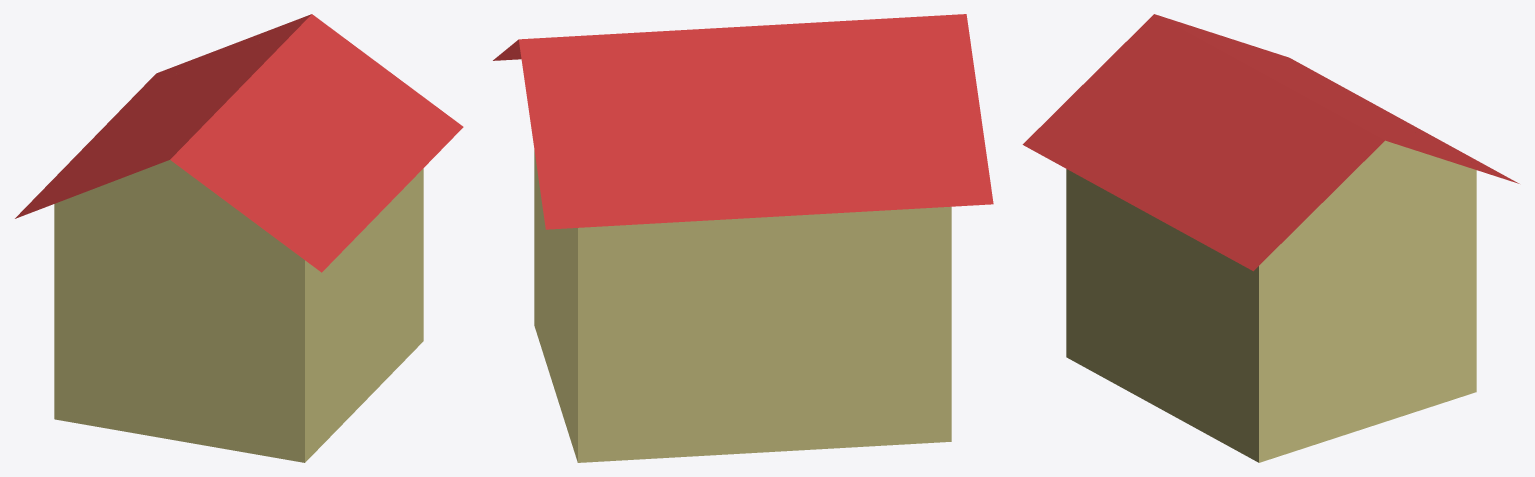
3 views of the same model, side by side, from view 1: azimuth 30°, elevation 25°; view 2: azimuth 150°, elevation 25°; view 3: azimuth 270°, elevation 25° (orthographic). The views are drawn at different scales.
Bounding box in the file's own units: 16.17 × 15.93 × 10.51.
